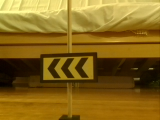left: (41, 54, 97, 81)
